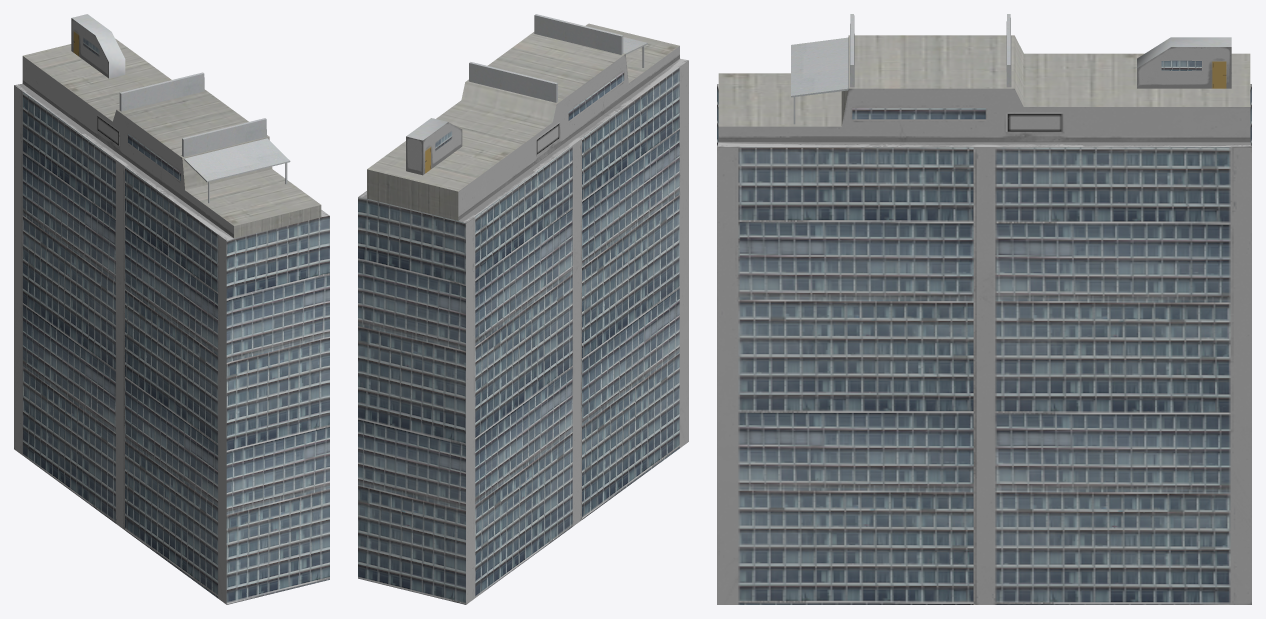
The model's file is MB_Skyscraper_05.fbx.
3 views of the same model, side by side, from view 1: azimuth 30°, elevation 25°; view 2: azimuth 150°, elevation 25°; view 3: azimuth 270°, elevation 25° (orthographic). The views are drawn at different scales.
Visible parts, largest first — view 1: MB_Skyscraper_05; view 2: MB_Skyscraper_05; view 3: MB_Skyscraper_05.
Boxes of the visible parts, left/top/right/bottom form: MB_Skyscraper_05: left=14, top=14, right=329, bottom=604; MB_Skyscraper_05: left=358, top=14, right=688, bottom=604; MB_Skyscraper_05: left=717, top=14, right=1251, bottom=604.
Size of the model in its own units: 722 by 2846 by 2580.
